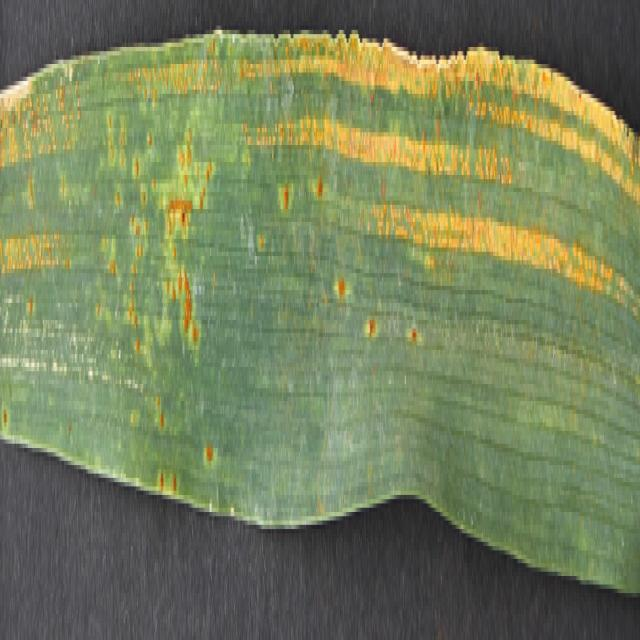leaf rust: (0, 38, 640, 610)
